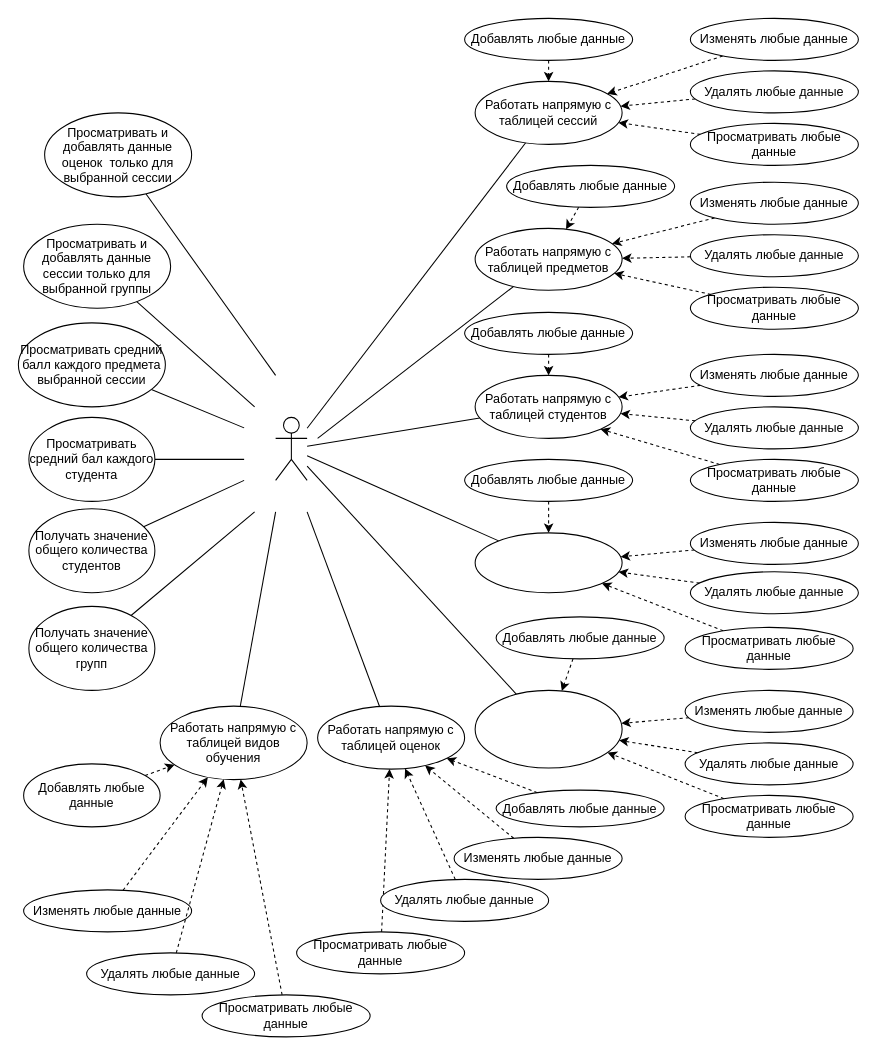
Some shapes in this 877 by 1055 pixel diagram are drawn without their labels. The shapes that lost their labels are listed below. From the top down, each one's centre as x and y in pixels, then its label:
At point (291, 448): "Пользователь".
At point (548, 562): "Работать напрямую с таблицей групп".
At point (548, 728): "Работать напрямую с таблицей форм обучения".
